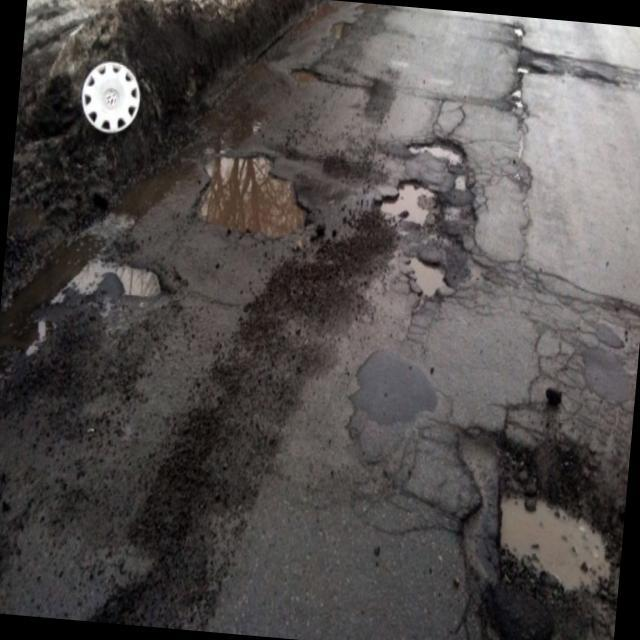Pothole: (440, 366, 635, 640), (0, 206, 187, 390), (181, 124, 318, 284), (368, 179, 474, 255), (482, 148, 551, 204), (393, 254, 469, 302), (402, 127, 477, 175), (494, 81, 544, 145), (450, 166, 484, 197), (508, 66, 546, 82), (499, 25, 532, 40)
